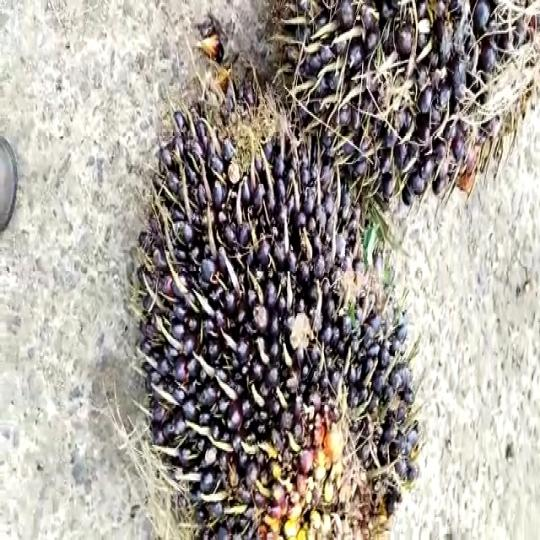mentah: (133, 55, 437, 540)
